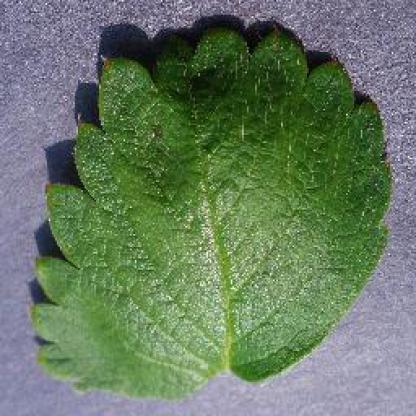healthy: (21, 16, 398, 402)
